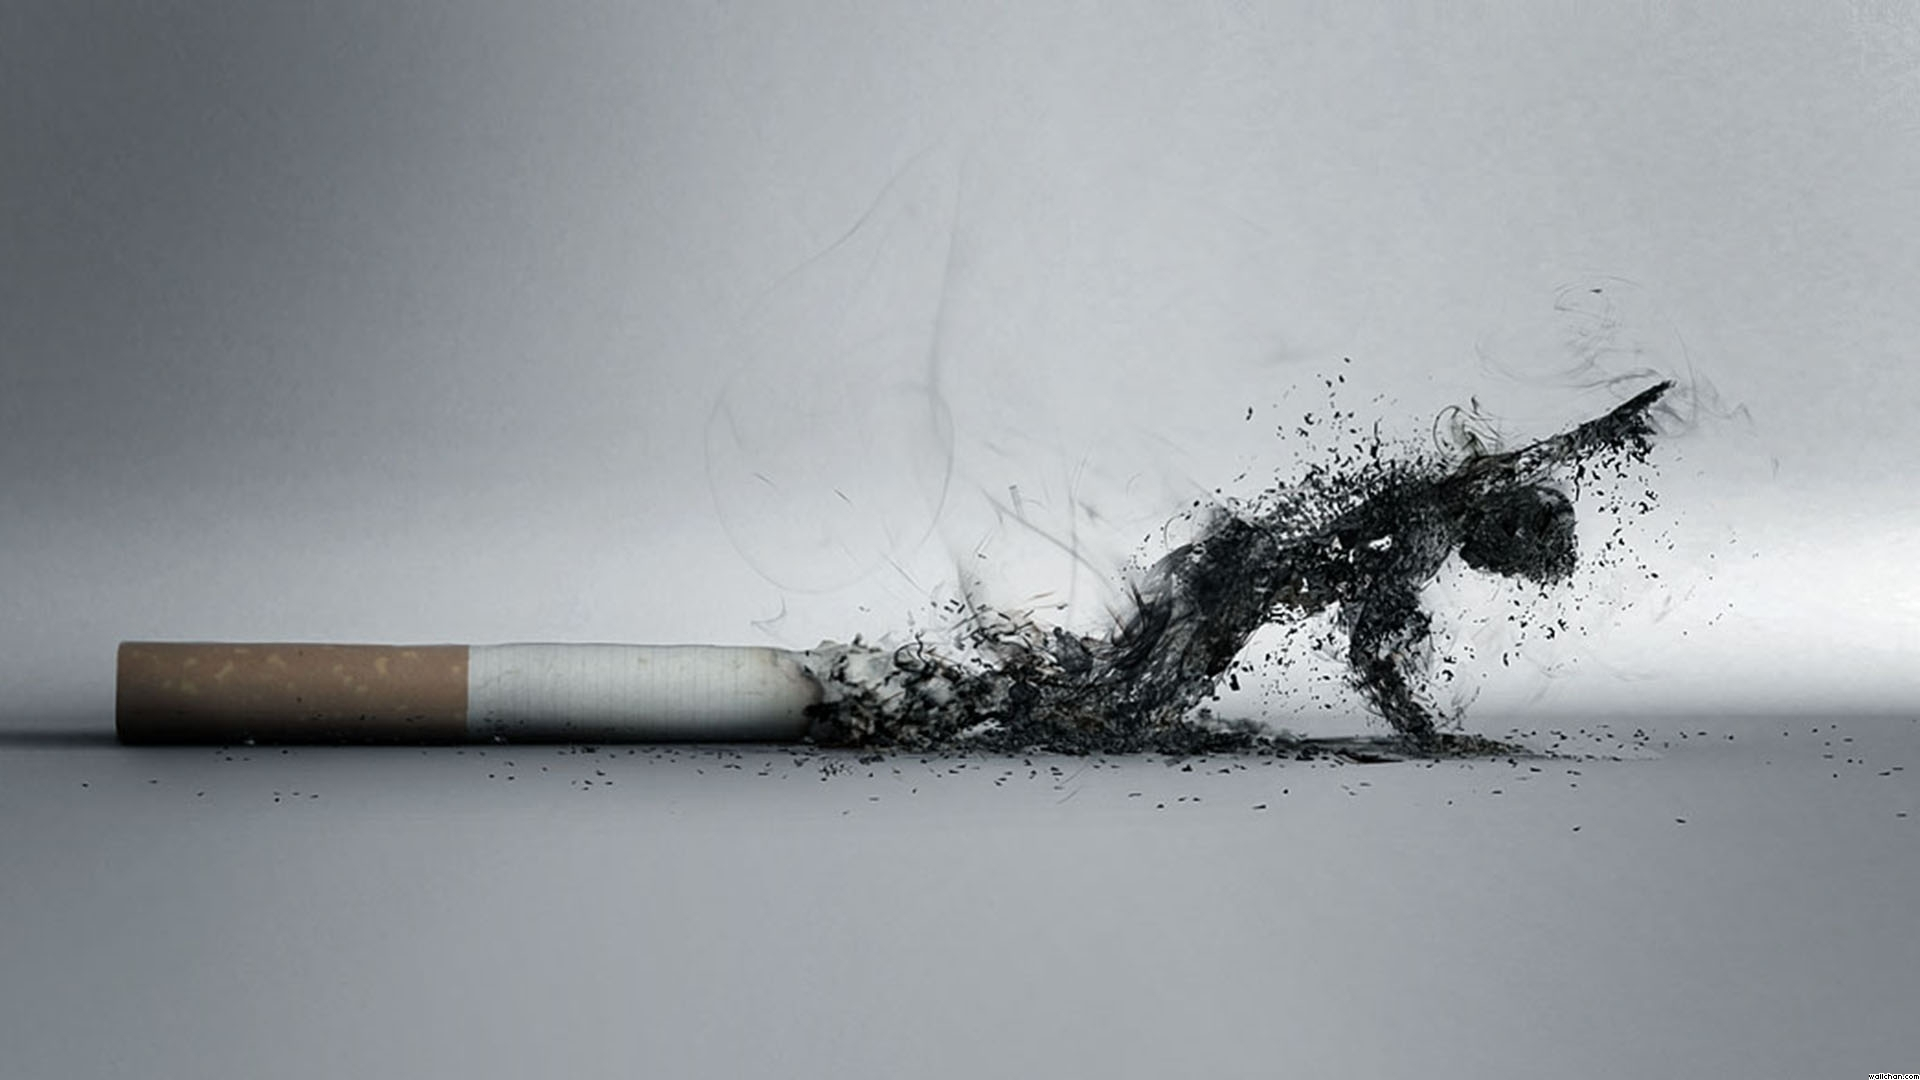cigarette: (88, 608, 965, 767)
